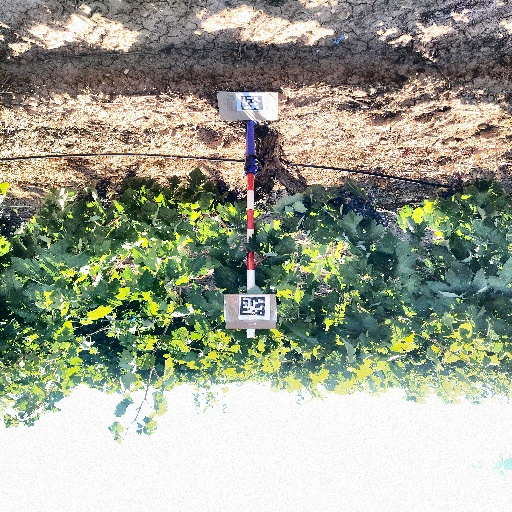QR: (239, 296, 266, 316), (241, 96, 262, 111)
